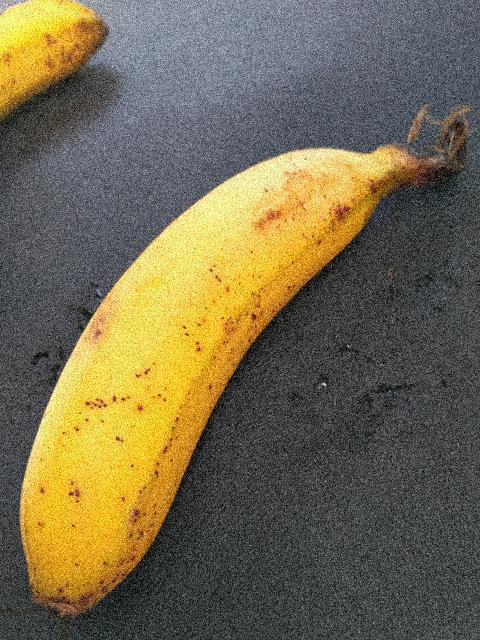ripe: (0, 127, 410, 639), (0, 9, 170, 94)
